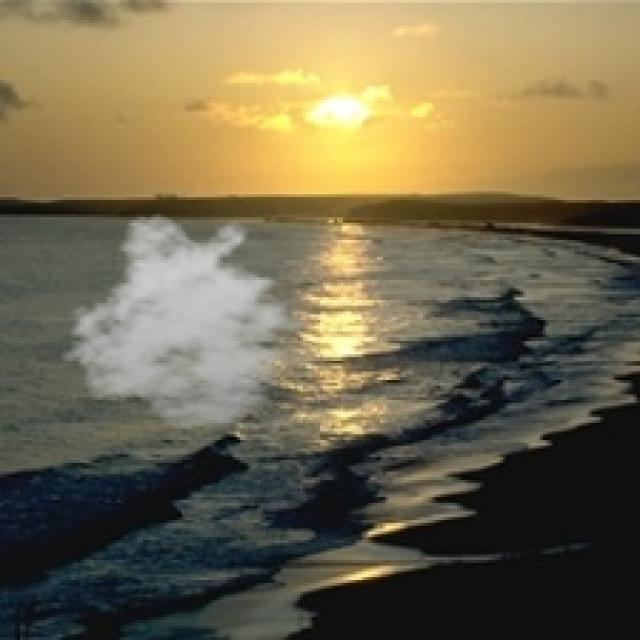smoke: (60, 212, 320, 432)
